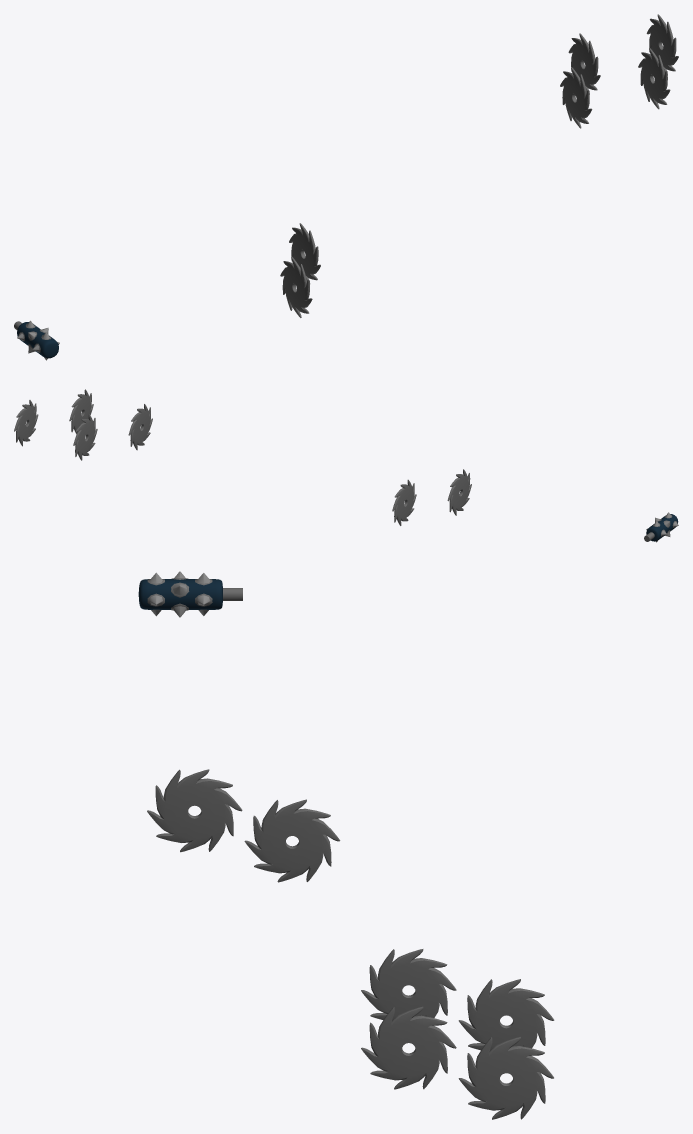
The model's file is Saws.glb.
3 renders of one model, top to bottom at view 1: azimuth 30°, elevation 25°; view 2: azimuth 150°, elevation 25°; view 3: azimuth 270°, elevation 25°, orthographic. The views are drawn at different scales.
Parts seen in each view (by area): view 1: Hazard_Saw.005, Hazard_Saw.003, Hazard_Saw.001, Hazard_Saw.002, Hazard_Saw.004, Hazard_Saw, Hazard_Cylinder; view 2: Hazard_Saw, Hazard_Saw.002, Hazard_Saw.001, Hazard_Saw.004, Hazard_Saw.005, Hazard_Cylinder, Hazard_Saw.003; view 3: Hazard_Saw, Hazard_Saw.001, Hazard_Saw.002, Hazard_Saw.003, Hazard_Saw.005, Hazard_Saw.004, Hazard_Cylinder.
Boxes of the visible parts, left/top/right/bottom form: Hazard_Saw.005: left=560, top=67, right=592, bottom=128; Hazard_Saw.003: left=638, top=48, right=670, bottom=109; Hazard_Saw.001: left=280, top=256, right=312, bottom=317; Hazard_Saw.002: left=646, top=14, right=678, bottom=75; Hazard_Saw.004: left=568, top=33, right=600, bottom=94; Hazard_Saw: left=289, top=223, right=320, bottom=283; Hazard_Cylinder: left=14, top=320, right=59, bottom=360; Hazard_Saw: left=392, top=479, right=416, bottom=525; Hazard_Saw.002: left=14, top=400, right=38, bottom=446; Hazard_Saw.001: left=447, top=469, right=471, bottom=515; Hazard_Saw.004: left=73, top=414, right=97, bottom=460; Hazard_Saw.005: left=128, top=404, right=152, bottom=450; Hazard_Cylinder: left=644, top=512, right=678, bottom=542; Hazard_Saw.003: left=69, top=389, right=93, bottom=433; Hazard_Saw: left=244, top=799, right=340, bottom=882; Hazard_Saw.001: left=147, top=769, right=242, bottom=852; Hazard_Saw.002: left=458, top=1037, right=553, bottom=1119; Hazard_Saw.003: left=361, top=1006, right=456, bottom=1089; Hazard_Saw.005: left=361, top=949, right=456, bottom=1019; Hazard_Saw.004: left=458, top=979, right=554, bottom=1050; Hazard_Cylinder: left=138, top=571, right=242, bottom=617.
Bounding box in the file's own units: 41.1 × 5.62 × 13.05.
